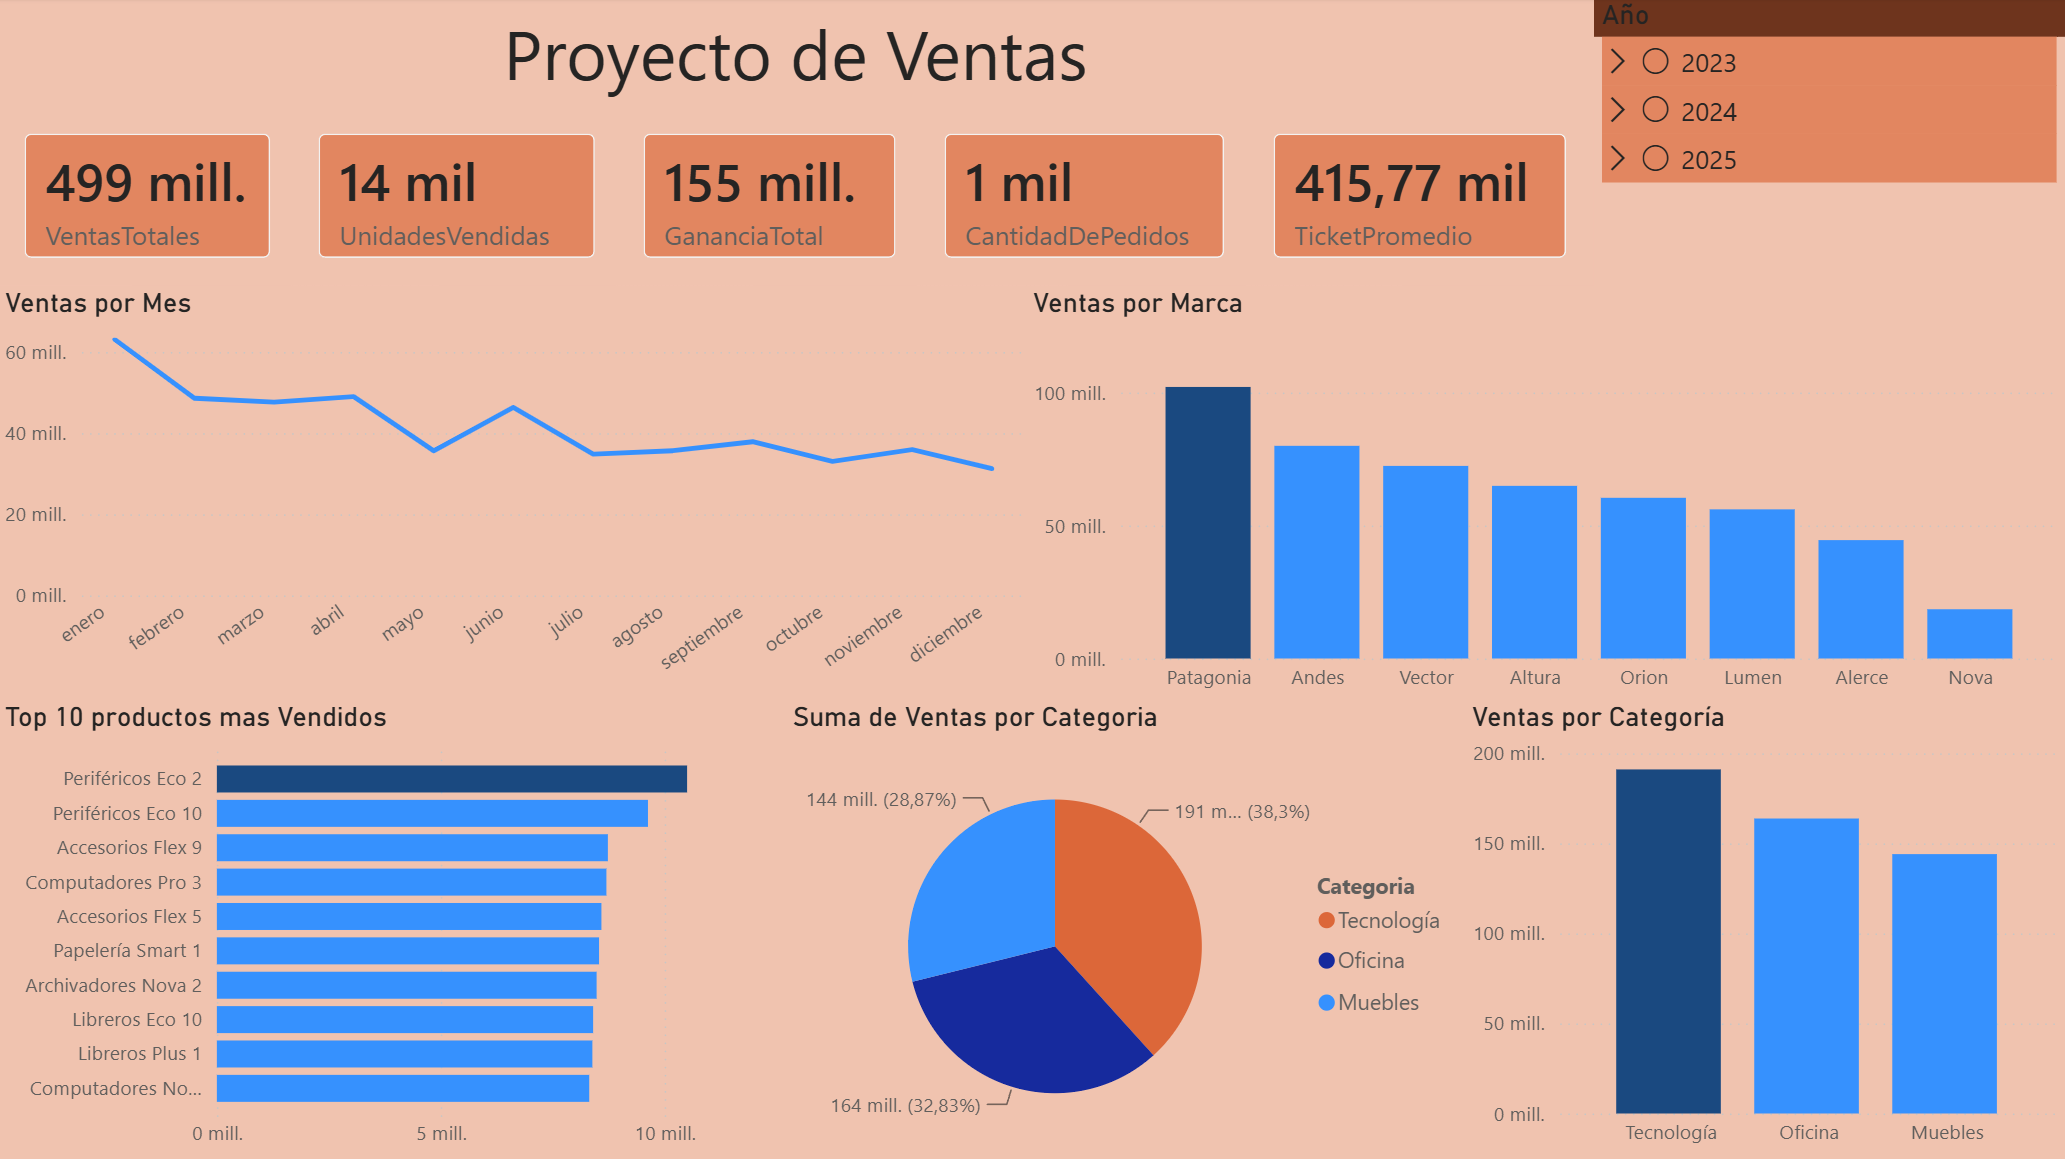

What the dashboard file says about the page in this screenshot:
{"tool":"powerbi","page":{"name":"Página 1","canvas":[1280,720],"ordinal":0},"visuals":[{"type":"textbox","box":[0,0,987.8,66.8],"z":0},{"type":"cardVisual","fields":{"Data":["DataSet_Limpio.VentasTotales"]},"box":[0,66.8,186.2,111.3],"z":1000},{"type":"cardVisual","fields":{"Data":["DataSet_Limpio.UnidadesVendidas"]},"box":[181.9,66.8,205.4,111.3],"z":2000},{"type":"cardVisual","fields":{"Data":["DataSet_Limpio.GananciaTotal"]},"box":[382.9,66.8,190.5,111.3],"z":3000},{"type":"cardVisual","fields":{"Data":["DataSet_Limpio.CantidadDePedidos"]},"box":[569.1,66.8,207.8,111.3],"z":4000},{"type":"cardVisual","fields":{"Data":["DataSet_Limpio.TicketPromedio"]},"box":[772.6,66.8,215.3,111.3],"z":5000},{"type":"lineChart","title":"Ventas por Mes","fields":{"Y":["Sum(DataSet_Limpio.Ventas)"],"Category":["DataSet_Limpio.Mes.Variación.Jerarquía de fechas.Mes"]},"box":[0,178.1,640.2,260.4],"z":6000},{"type":"columnChart","title":"Ventas por Categoría","fields":{"Category":["DataSet_Limpio.Categoria"],"Y":["Sum(DataSet_Limpio.Ventas)"]},"box":[907.4,434.2,372.4,285.8],"z":7000},{"type":"barChart","title":"Top 10 productos mas Vendidos","fields":{"Category":["DataSet_Limpio.Nombre_Producto"],"Y":["Sum(DataSet_Limpio.Ventas)"]},"box":[0,434.2,492.4,286.4],"z":8000},{"type":"clusteredColumnChart","title":"Ventas por Marca","fields":{"Category":["DataSet_Limpio.Marca"],"Y":["Sum(DataSet_Limpio.Ventas)"]},"box":[635.9,178.1,643.9,260.4],"z":9000},{"type":"listSlicer","fields":{"Values":["DataSet_Limpio.Mes.Variación.Jerarquía de fechas.Año","DataSet_Limpio.Mes.Variación.Jerarquía de fechas.Mes"]},"box":[987.8,0,292,178.1],"z":9001},{"type":"pieChart","fields":{"Category":["DataSet_Limpio.Categoria"],"Y":["Sum(DataSet_Limpio.Ventas)"]},"box":[487.4,434.2,420,285.8],"z":9002}]}

Visuals, with their boxes in screenshot pixels (x1, y1, x2, y2), scaled from the page's 1280x720 canvas onto the 2065x1159 screenshot:
textbox: l=0, t=0, r=1594, b=108
cardVisual - DataSet_Limpio.VentasTotales: l=0, t=108, r=300, b=287
cardVisual - DataSet_Limpio.UnidadesVendidas: l=293, t=108, r=625, b=287
cardVisual - DataSet_Limpio.GananciaTotal: l=618, t=108, r=925, b=287
cardVisual - DataSet_Limpio.CantidadDePedidos: l=918, t=108, r=1253, b=287
cardVisual - DataSet_Limpio.TicketPromedio: l=1246, t=108, r=1594, b=287
"Ventas por Mes" lineChart: l=0, t=287, r=1033, b=706
"Ventas por Categoría" columnChart: l=1464, t=699, r=2064, b=1158
"Top 10 productos mas Vendidos" barChart: l=0, t=699, r=794, b=1158
"Ventas por Marca" clusteredColumnChart: l=1026, t=287, r=2064, b=706
listSlicer - DataSet_Limpio.Mes.Variación.Jerarquía de fechas.Año x DataSet_Limpio.Mes.Variación.Jerarquía de fechas.Mes: l=1594, t=0, r=2064, b=287
pieChart - DataSet_Limpio.Categoria x Sum(DataSet_Limpio.Ventas): l=786, t=699, r=1464, b=1158
